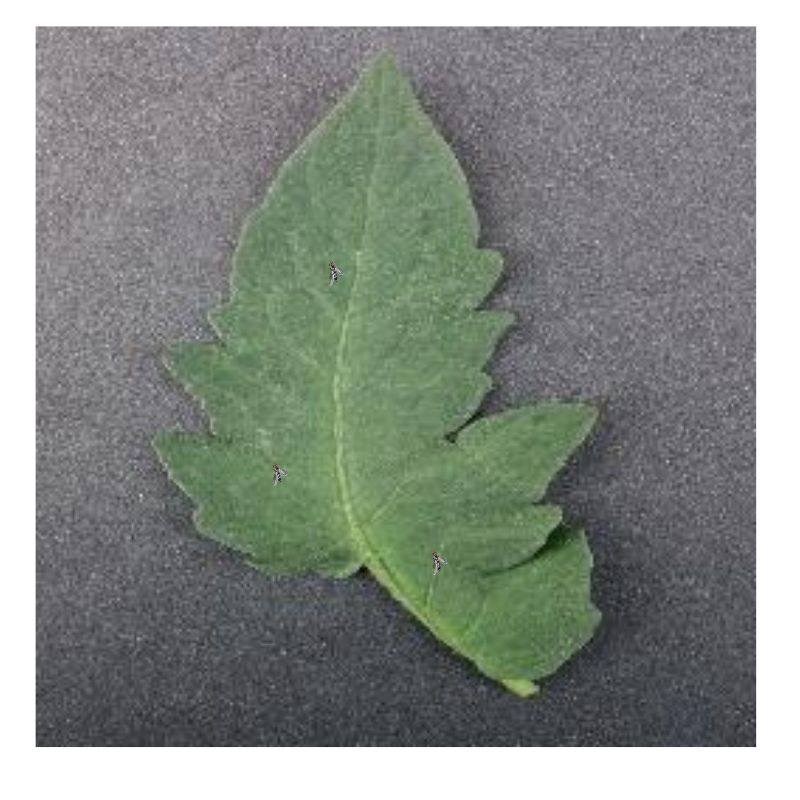liriomyza: (324, 257, 345, 287), (269, 462, 289, 487), (430, 549, 447, 575)
